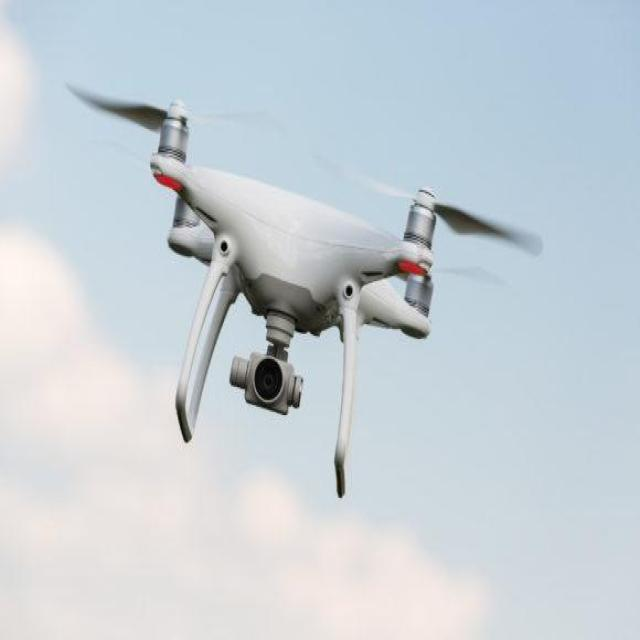drone: (148, 96, 435, 498)
